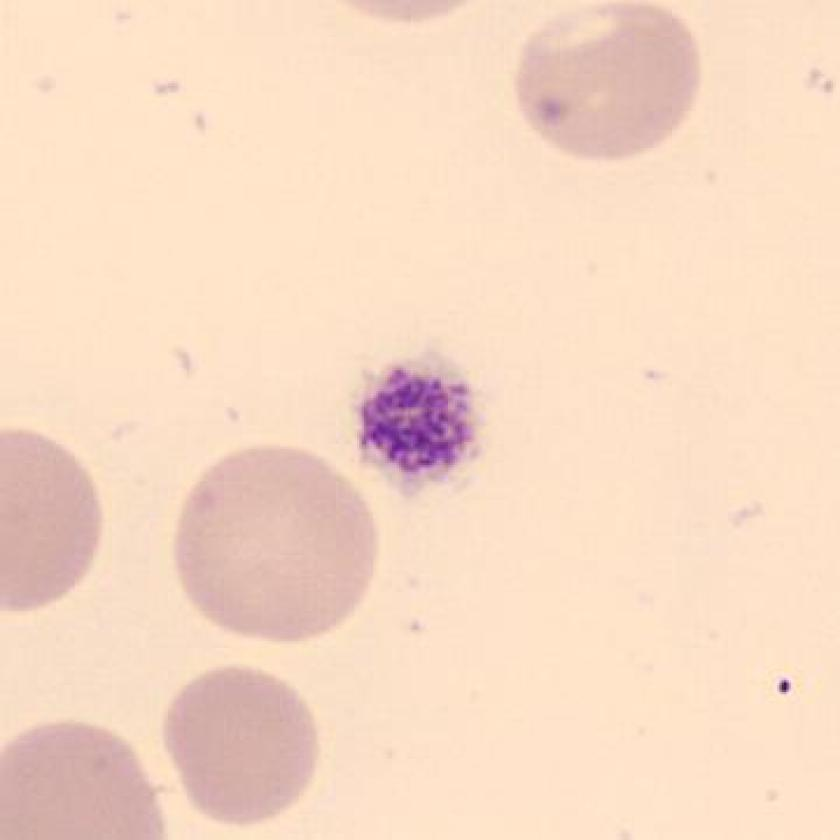platelets: (349, 351, 491, 499)
